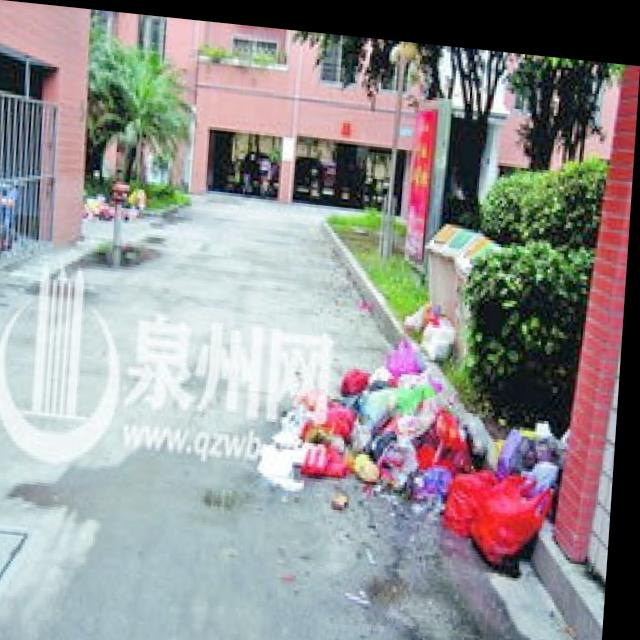garbage: (270, 276, 581, 573)
